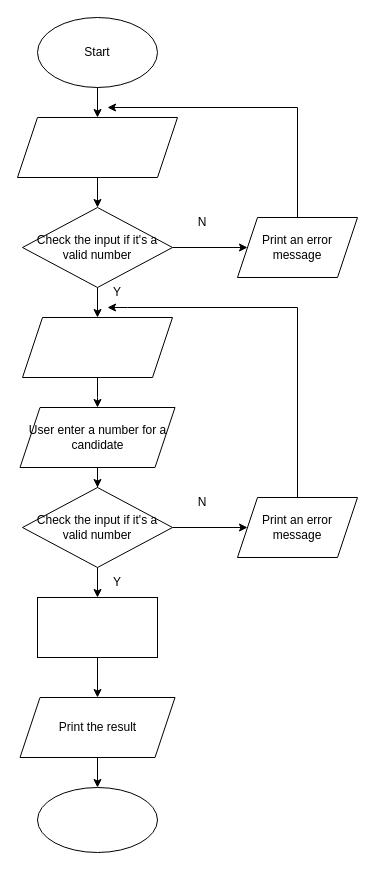
This 375x870 diagram has some shape labels left out. The centre of each missing label's shape, as x and y in pixels:
"Calculate the votes" belongs at (x=97, y=627).
"End" belongs at (x=97, y=819).
"Print the number and names of the candidates" belongs at (x=97, y=347).
"User enter the number of people who will vote" belongs at (x=97, y=147).
